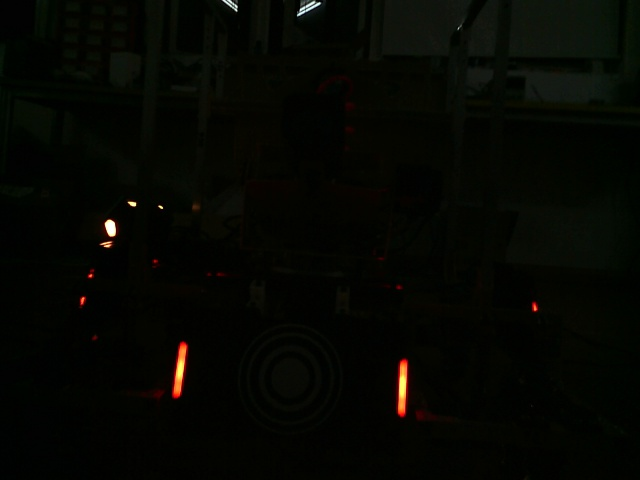lamp: (171, 339, 188, 399), (397, 357, 409, 416)
